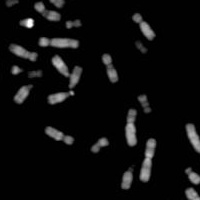chromosome: (140, 137, 158, 182), (131, 10, 155, 41), (43, 124, 74, 145), (186, 123, 200, 167), (34, 1, 62, 22), (125, 109, 140, 147), (13, 82, 36, 105), (38, 36, 78, 49), (9, 43, 37, 61), (48, 89, 75, 106), (103, 53, 118, 83), (52, 55, 71, 77), (121, 166, 137, 191), (91, 136, 110, 155), (137, 94, 153, 114), (185, 165, 200, 185), (68, 65, 81, 88), (64, 18, 83, 30), (185, 185, 200, 200), (8, 63, 25, 76), (18, 17, 33, 29), (135, 40, 147, 54), (38, 0, 65, 6), (28, 68, 43, 77)
